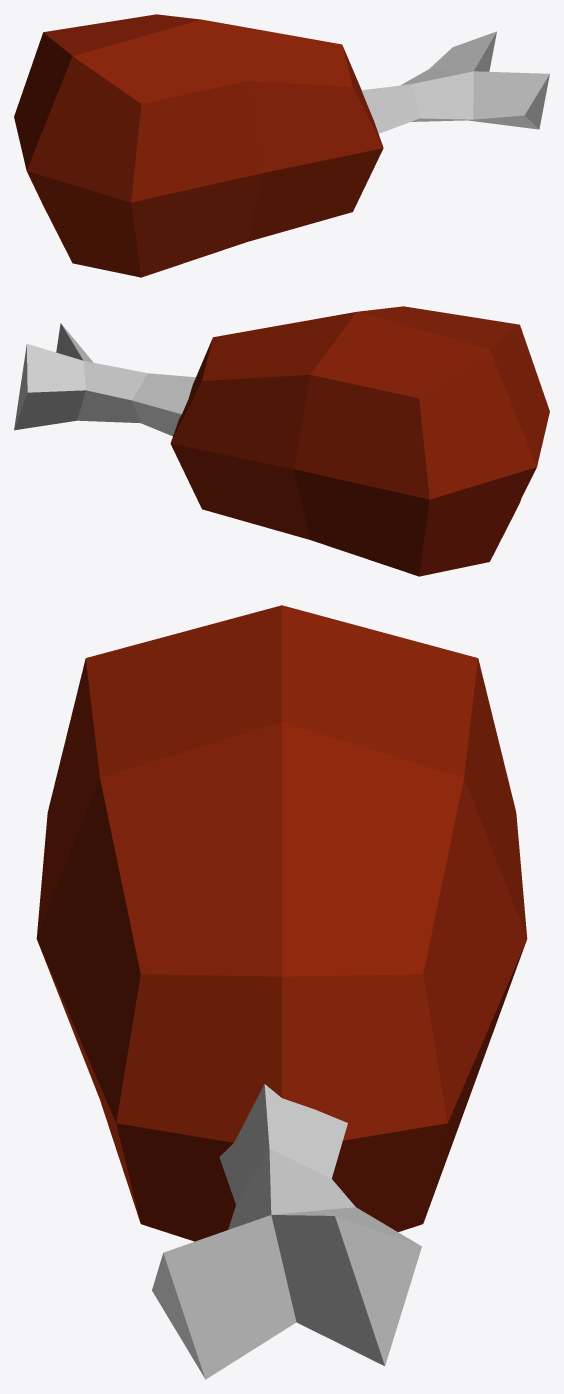
The model's file is Meat.FBX.
3 views of the same model, one above another, from view 1: azimuth 30°, elevation 25°; view 2: azimuth 150°, elevation 25°; view 3: azimuth 270°, elevation 25° (orthographic). The views are drawn at different scales.
Visible parts, largest first — view 1: Meat; view 2: Meat; view 3: Meat.
Boxes of the visible parts, left/top/right/bottom form: Meat: left=14, top=14, right=549, bottom=277; Meat: left=14, top=306, right=549, bottom=576; Meat: left=36, top=605, right=527, bottom=1379.
Size of the model in its own units: 21.54 by 9.05 by 9.27.
